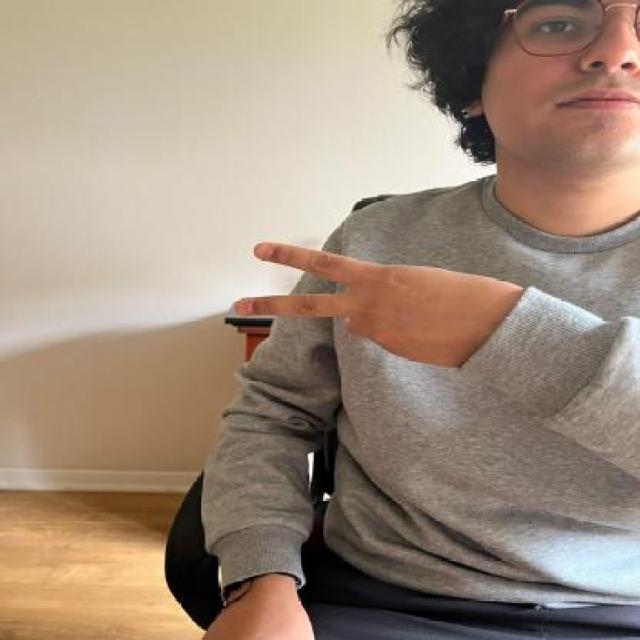H: (226, 236, 534, 372)
